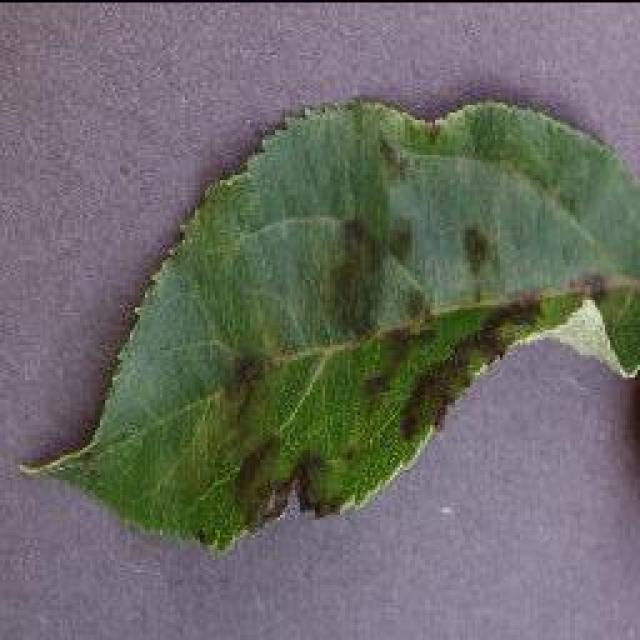apple scab disease: (18, 93, 638, 555)
